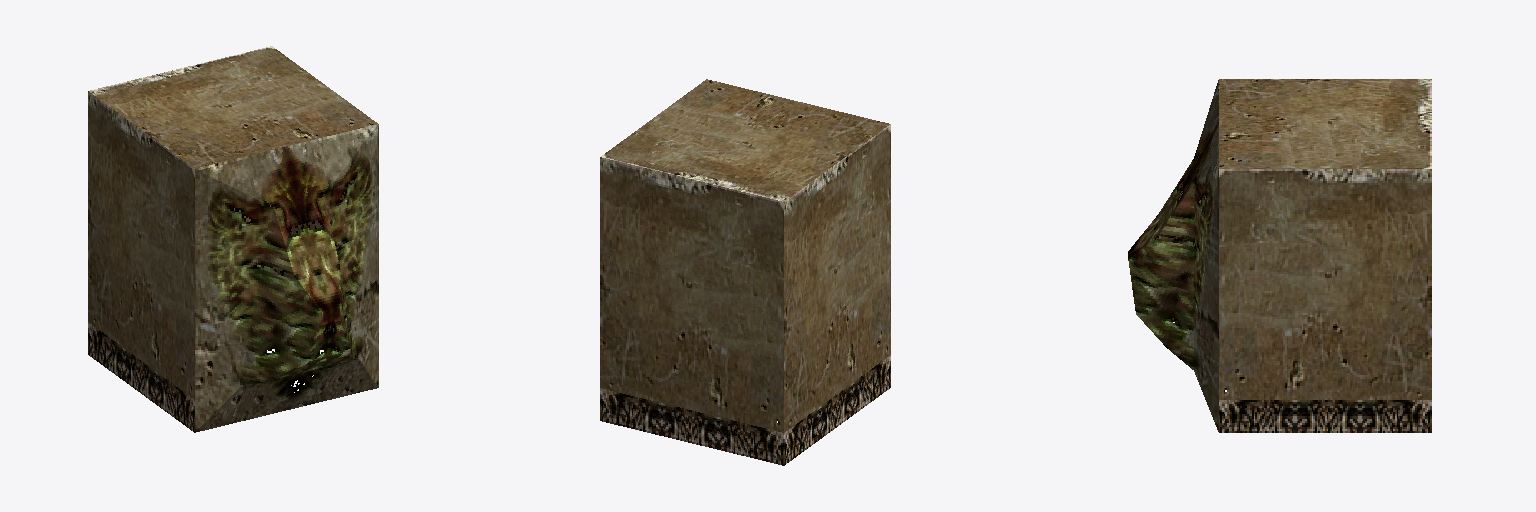
The picture shows the model from 3 angles: view 1: azimuth 30°, elevation 25°; view 2: azimuth 150°, elevation 25°; view 3: azimuth 270°, elevation 25°; orthographic projection.
Parts seen in each view (by area): view 1: Mesh_1, Mesh_0; view 2: Mesh_0; view 3: Mesh_0, Mesh_1.
Boxes of the visible parts, box(x1,y1,x2,y2) form: Mesh_1: box(195, 124, 378, 432); Mesh_0: box(88, 46, 377, 432); Mesh_0: box(600, 79, 890, 465); Mesh_0: box(1219, 79, 1431, 432); Mesh_1: box(1128, 80, 1218, 431).
Bounding box in the file's own units: 0.9988 × 1.37 × 1.43.
2 materials, 2 textured.